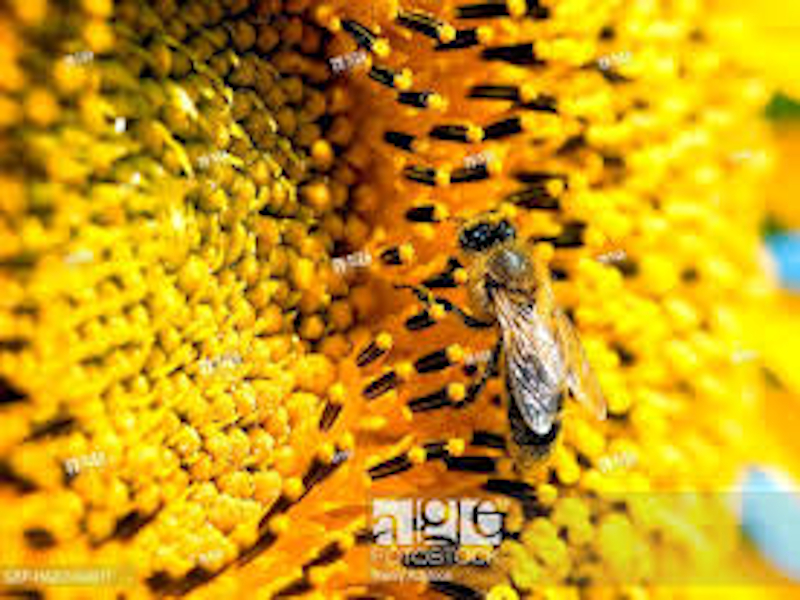abeja: (401, 184, 596, 466)
